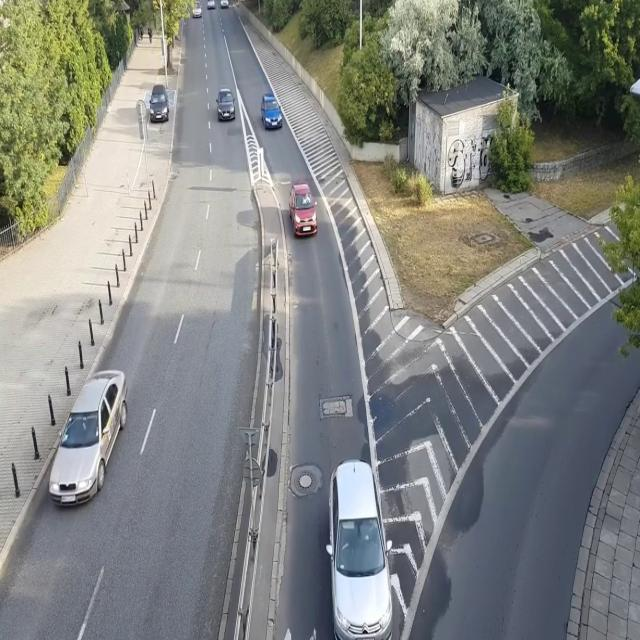car: (324, 459, 394, 640), (48, 369, 129, 509), (286, 179, 318, 236), (260, 92, 283, 130), (148, 84, 170, 123), (216, 88, 236, 122), (192, 0, 202, 19), (206, 0, 215, 9), (219, 0, 228, 8)
